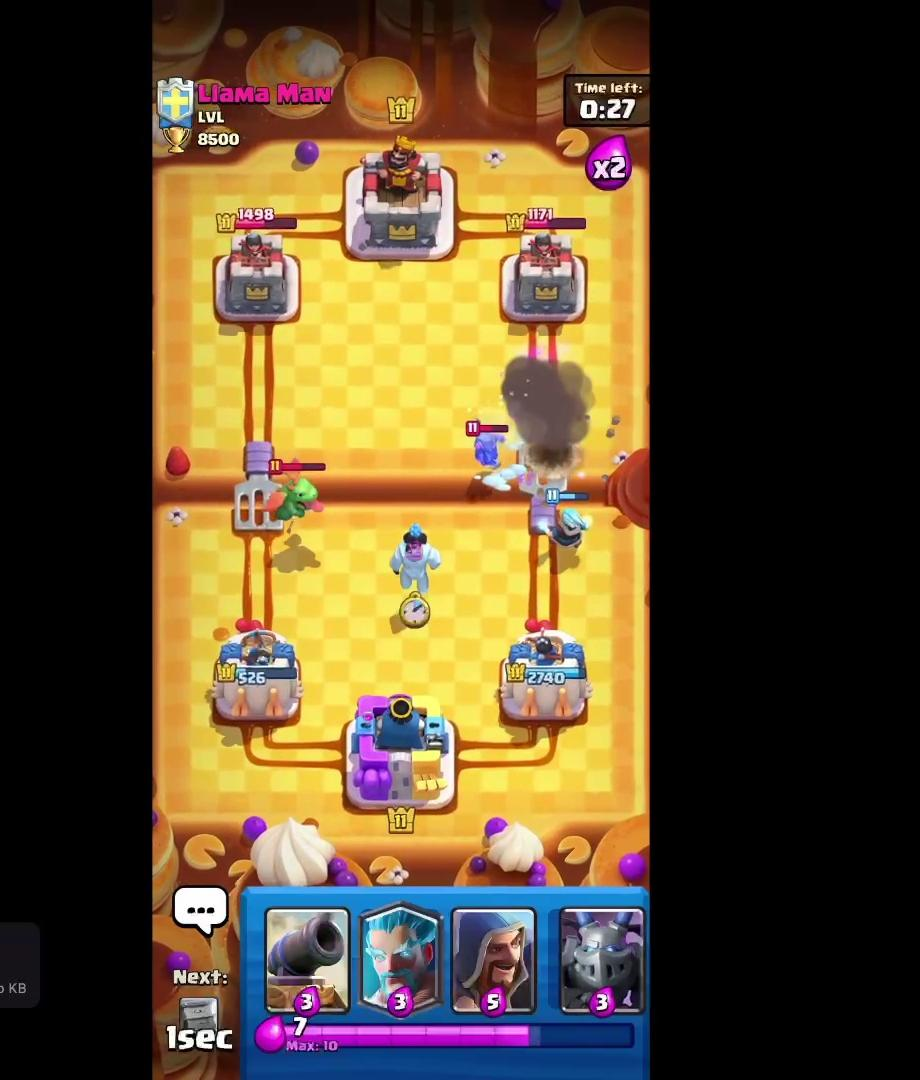Baby Dragon: (252, 459, 329, 526)
Mini Pekka: (470, 414, 516, 477)
